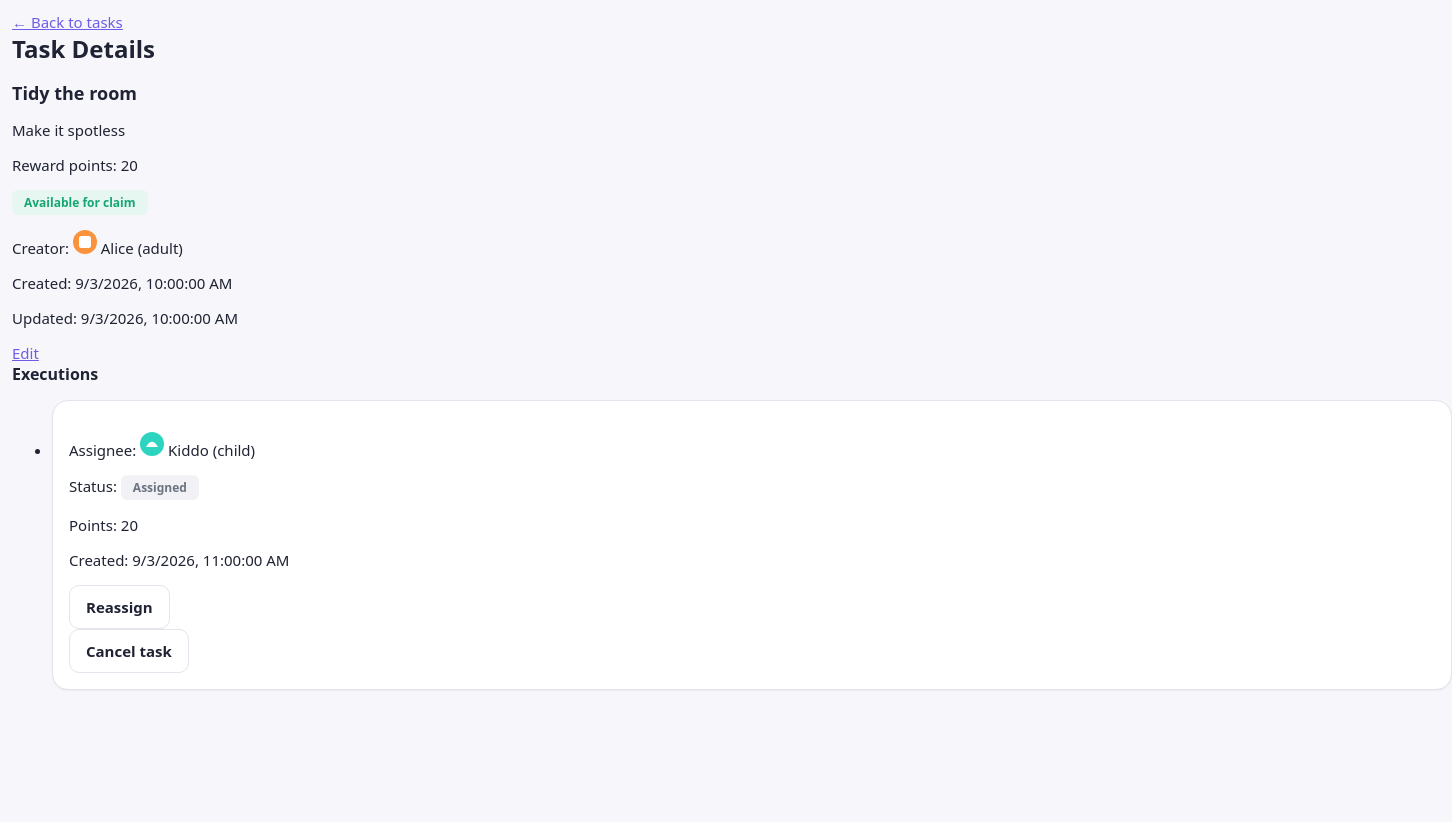
Test case: TaskDetailsPage › reassignment errors are displayed
The width and height of the screenshot is (1452, 822).
Click the button "Reassign".
click(119, 607)  # box [69,585,170,629]
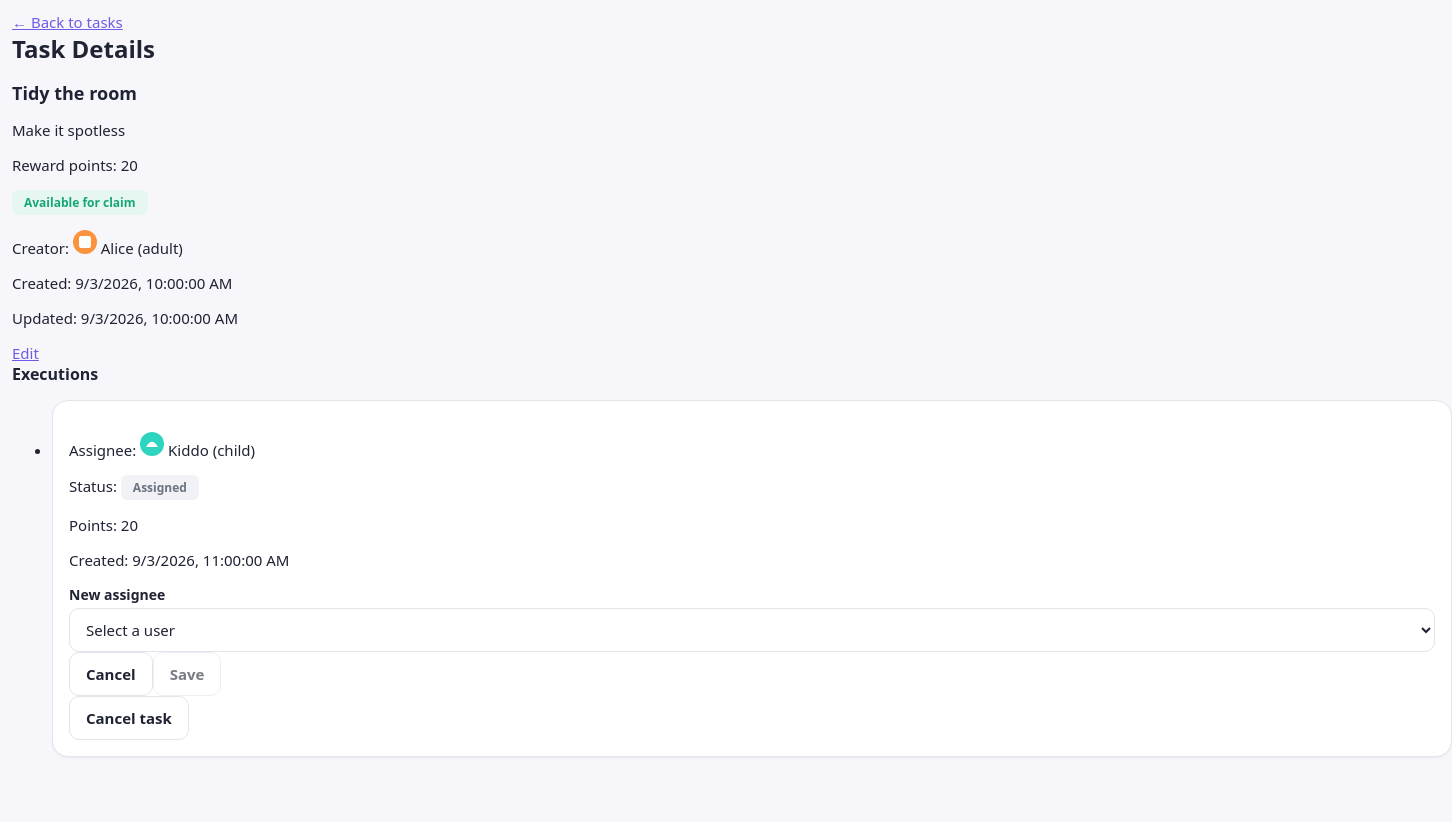
Select "Bob (adult)" in the dropdown labelled "New assignee" at (752, 630), box [69,608,1435,652]
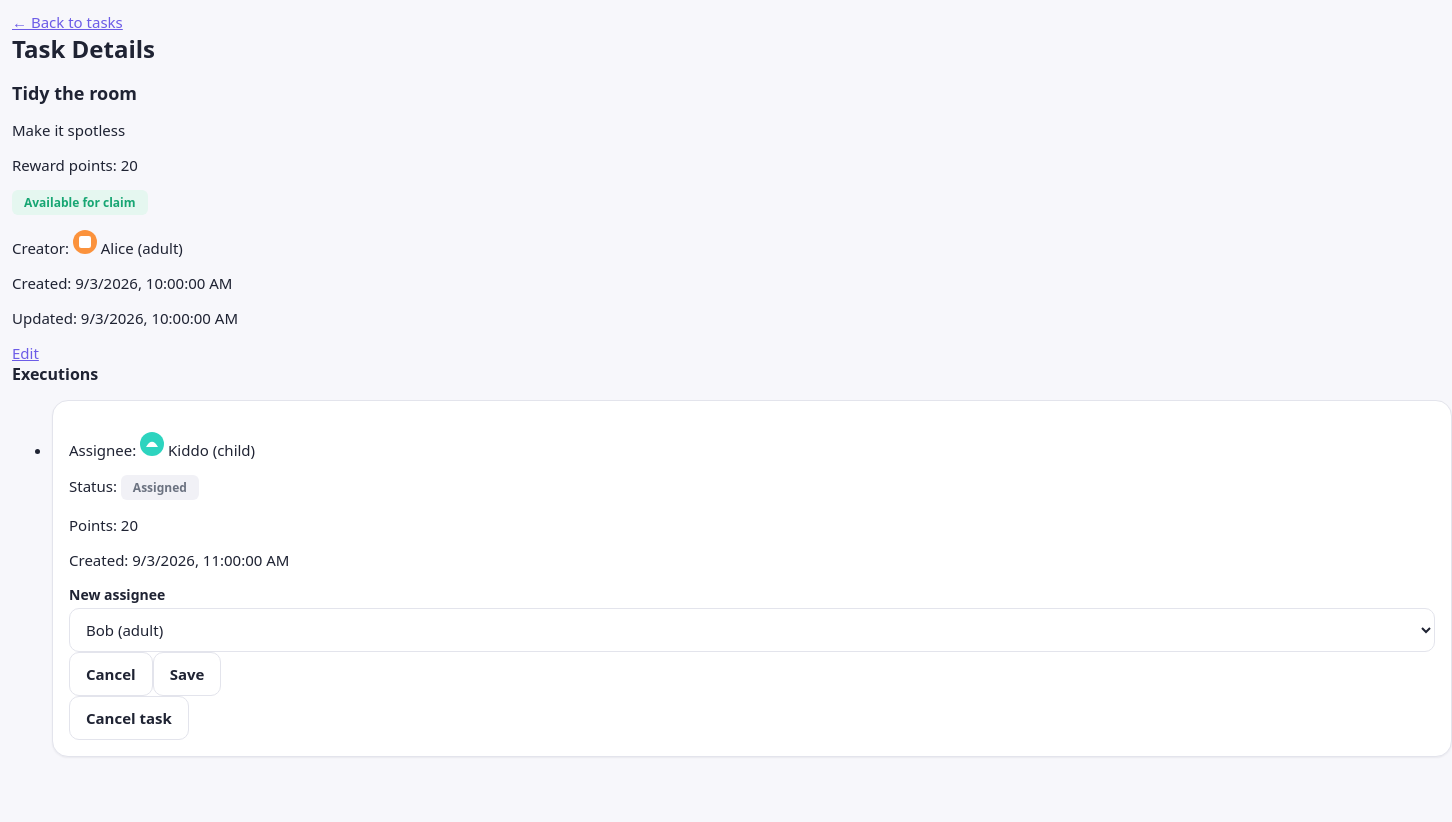
Click the button "Save".
click(187, 674)  # box [153,652,221,696]
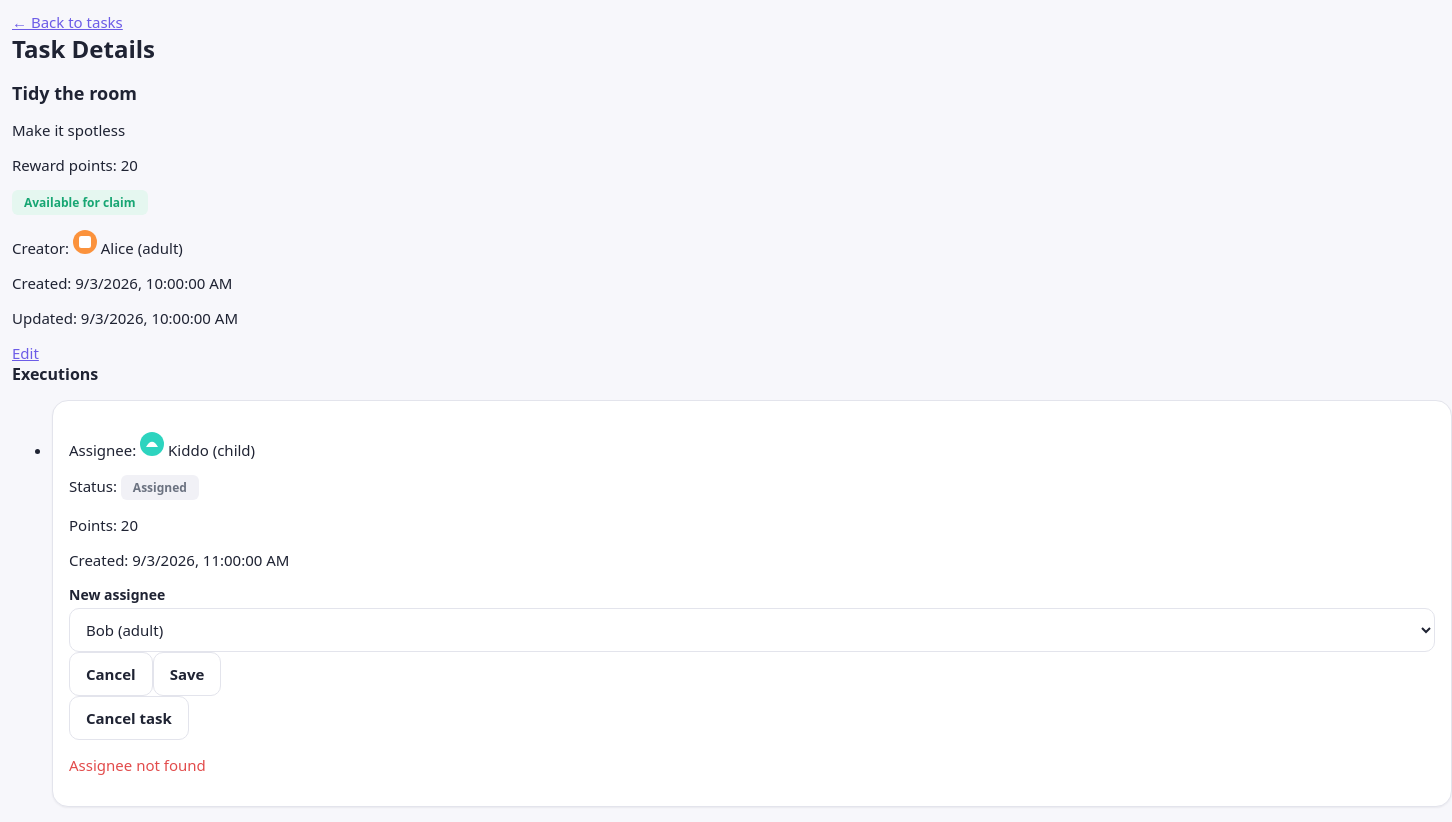
Result: the text "Assignee not found" is shown at [69,755,206,775]
